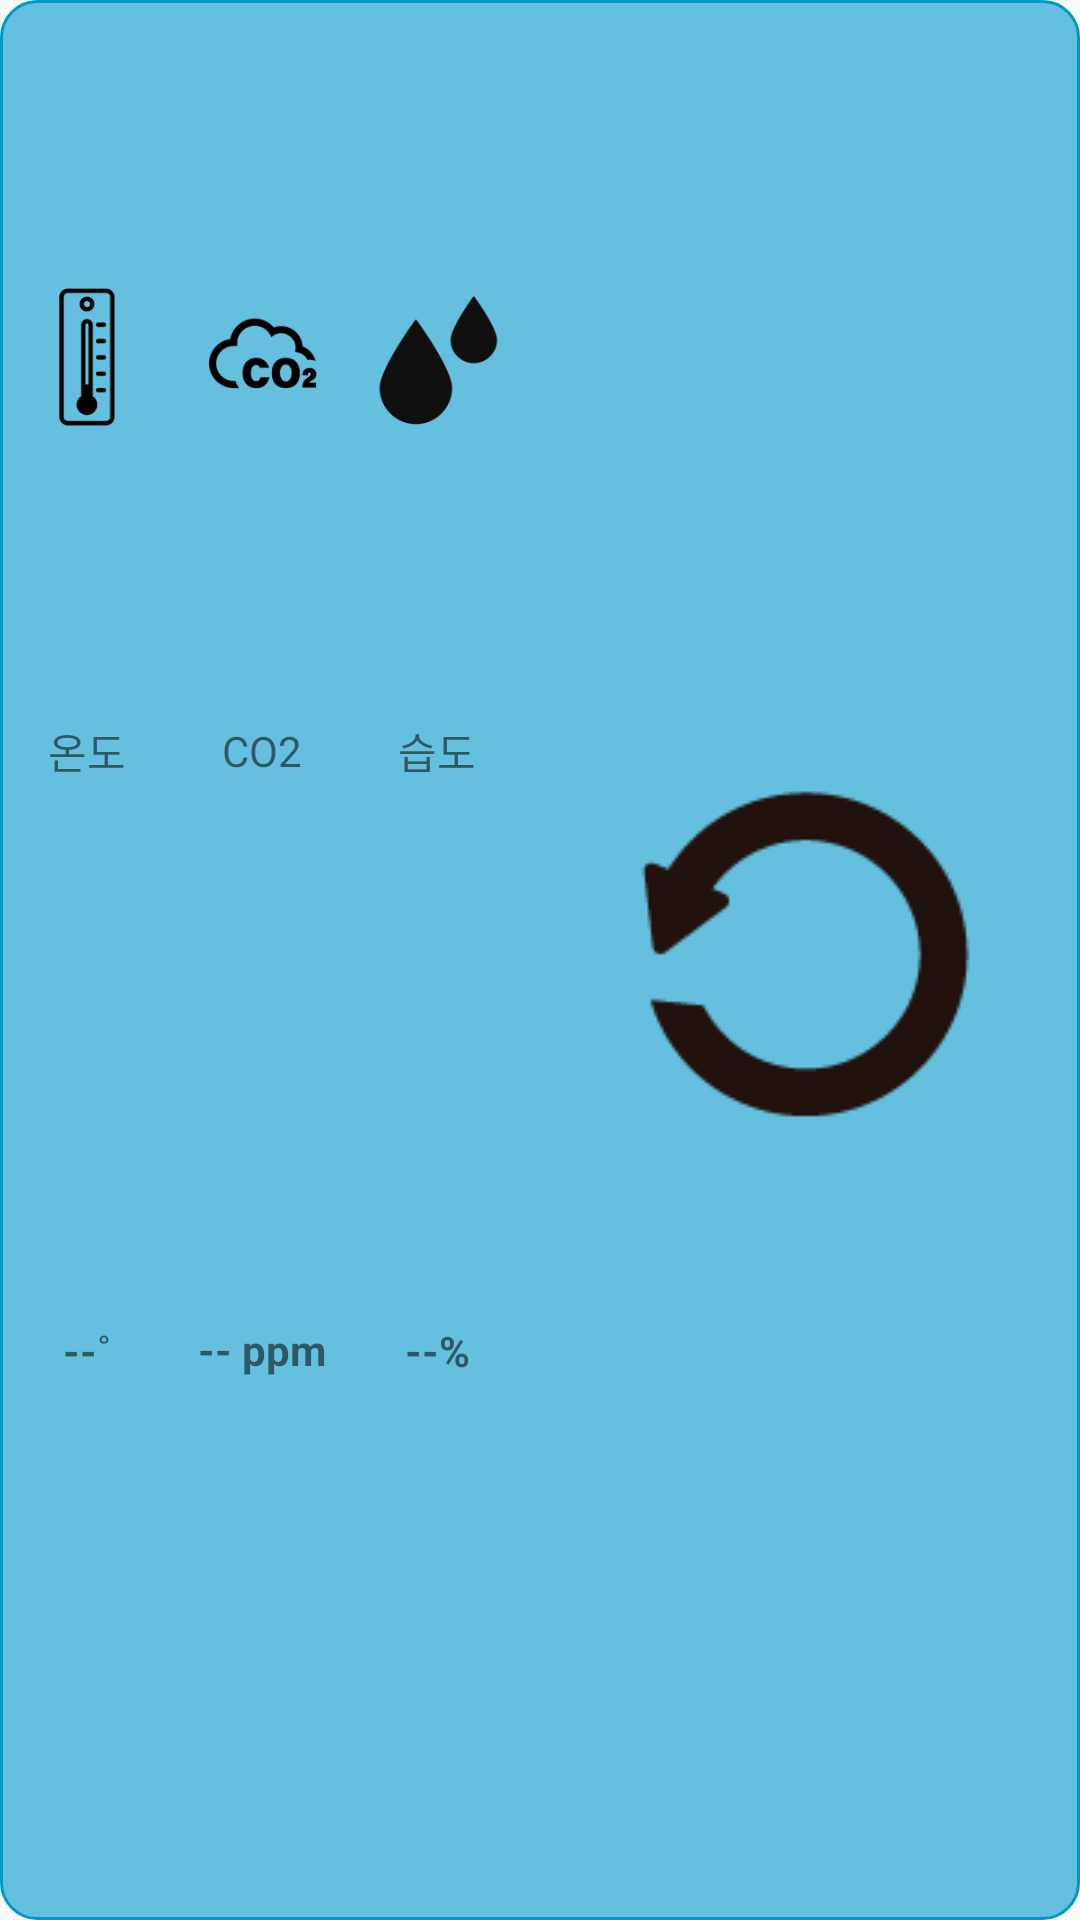

Locate icon controls on the screen. Image size 1080x1920, boxes as bbox=[x1, y1, x2, y2].
humidity: bbox=[379, 296, 498, 425]
refresh: bbox=[642, 791, 970, 1117]
